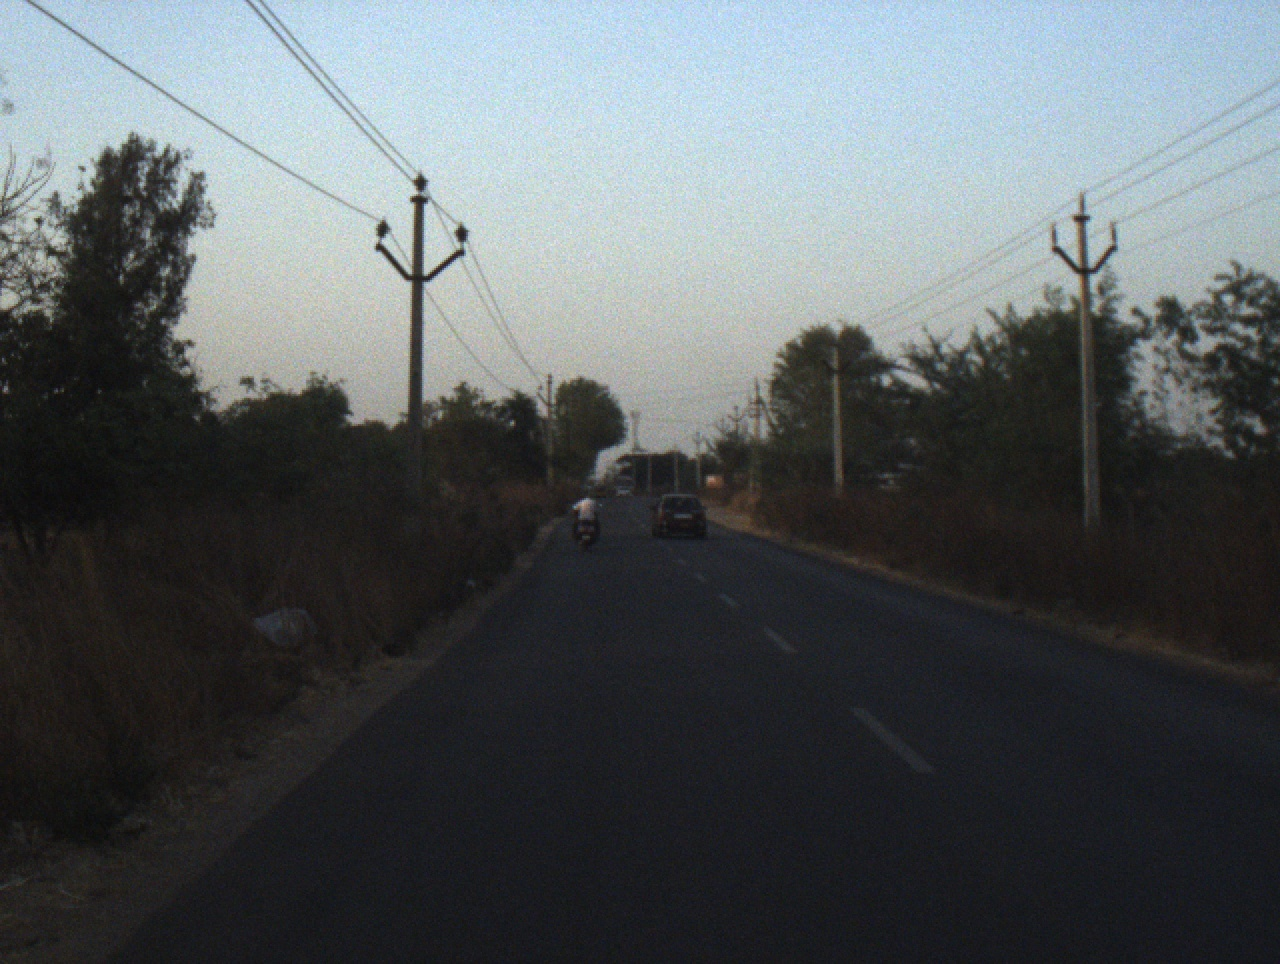autorickshaw: (590, 481, 608, 503)
car: (646, 494, 711, 540), (616, 482, 631, 498)
motorcycle: (574, 503, 607, 550)
rider: (572, 489, 603, 547)
